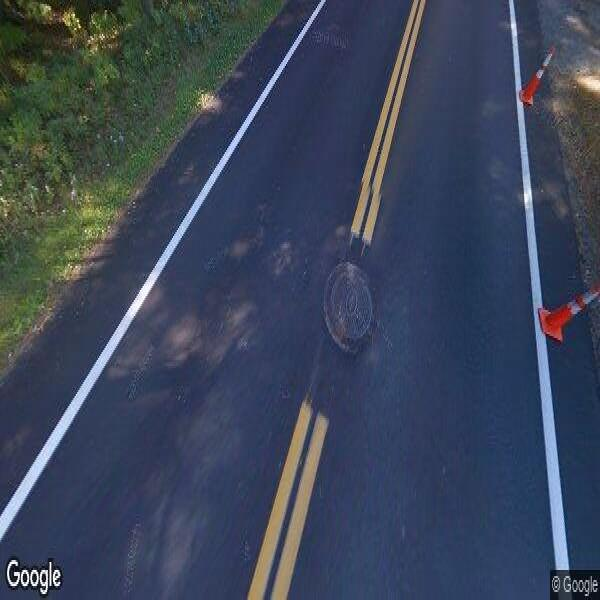manhole: (314, 252, 376, 365)
